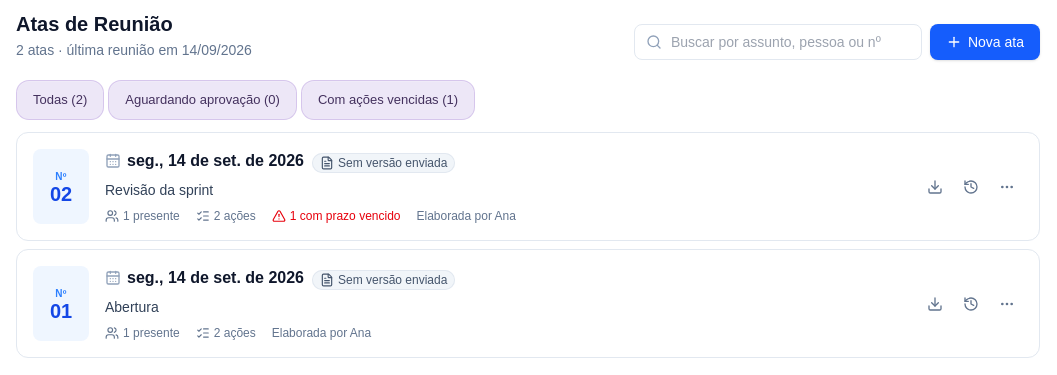
Test case: Documentação > Atas de Reunião › busca e filtro rápido
Type "revisao" into the search field named "Buscar atas" at (778, 42), box top-left (634, 24), bottom-right (922, 60)
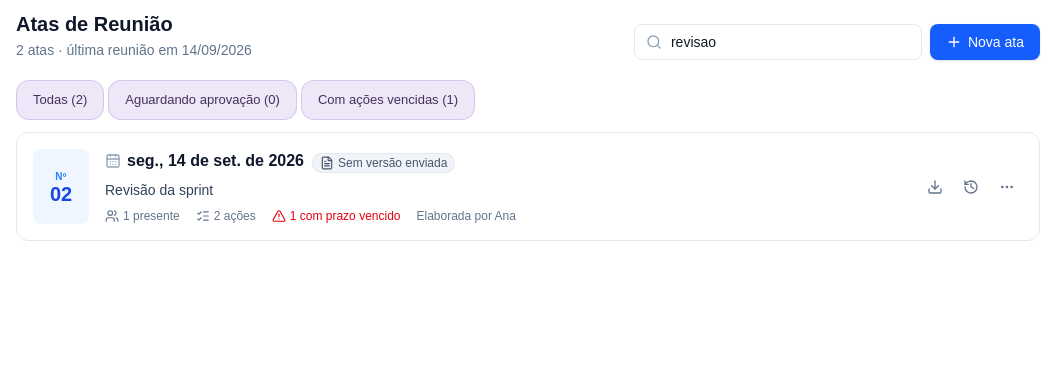
Result: the number of list items with test id "ata-item" is 1 at top-left (16, 132), bottom-right (1040, 241)
Replace the text in the search field named "Buscar atas" with "nada disso" at (778, 42), box top-left (634, 24), bottom-right (922, 60)
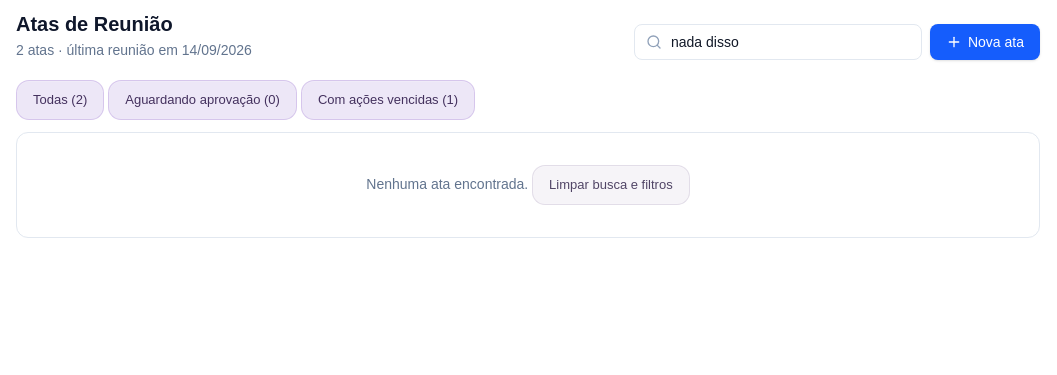
Click the button "Limpar busca e filtros" at (611, 185), box top-left (532, 165), bottom-right (690, 205)
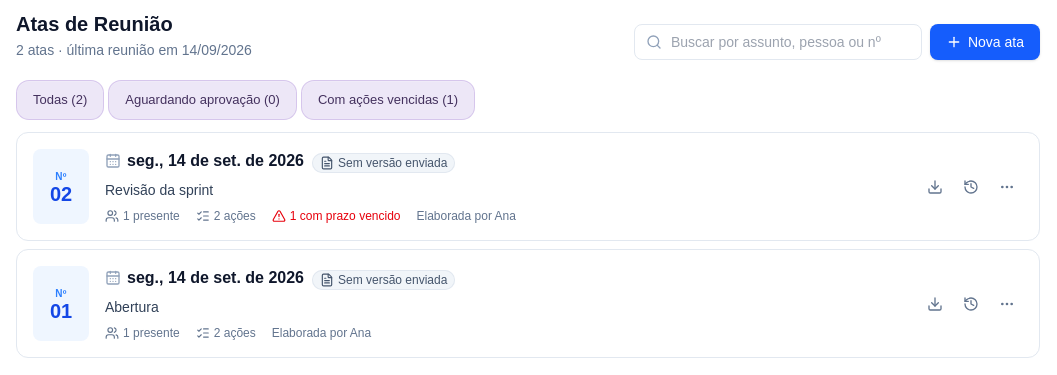
Click the button "Com ações vencidas (1)" at (388, 100), box top-left (301, 80), bottom-right (475, 120)
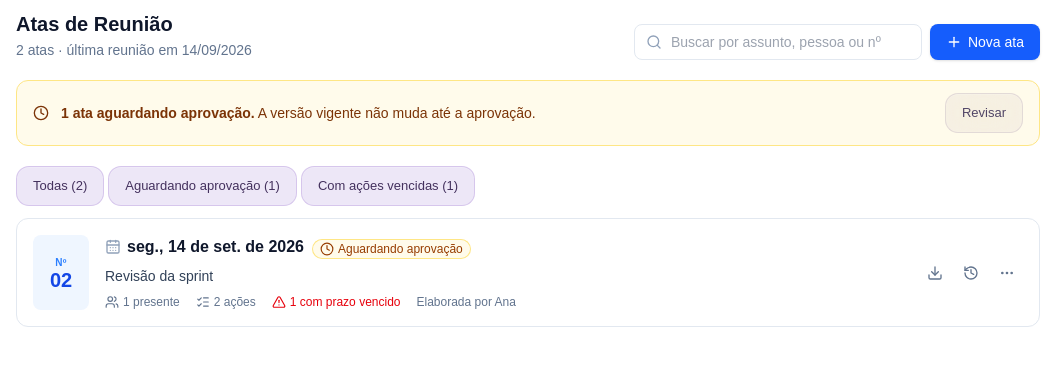
Result: the text "Revisão da sprint" is shown at top-left (105, 268), bottom-right (213, 284)
Result: the number of list items with test id "ata-item" is 1 at top-left (16, 218), bottom-right (1040, 327)
